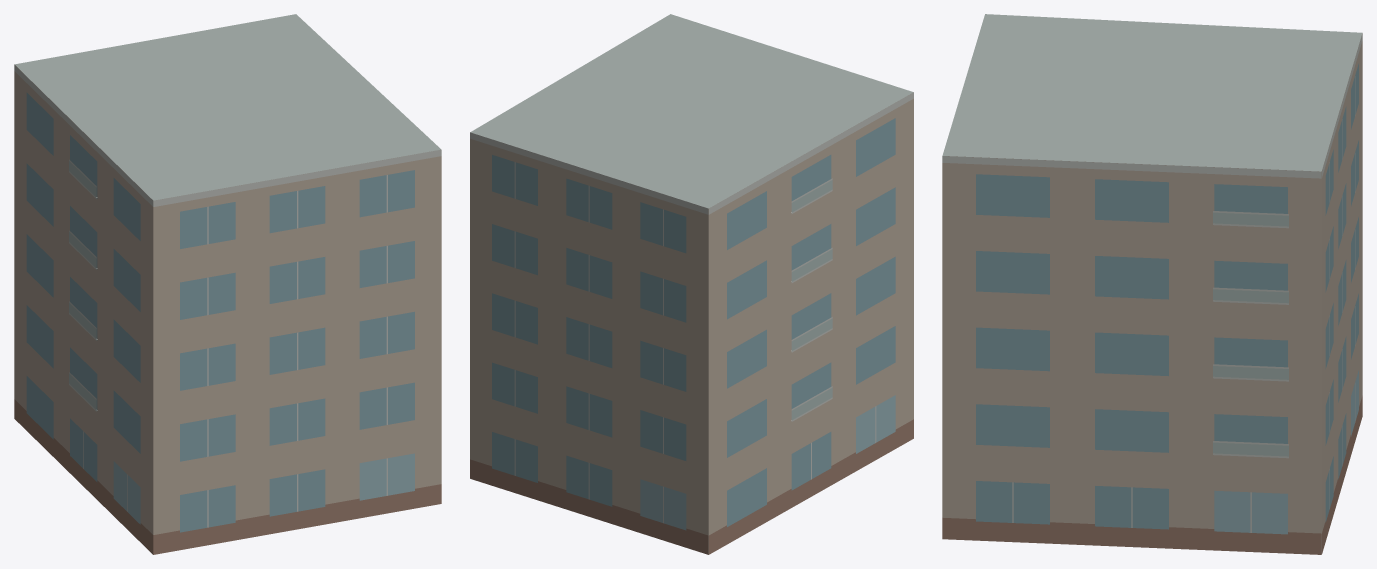
Rendered from survey-upis-32523171.glb.
3 renders of one model, left to right at view 1: azimuth 30°, elevation 25°; view 2: azimuth 150°, elevation 25°; view 3: azimuth 270°, elevation 25°, orthographic. The views are drawn at different scales.
Parts seen in each view (by area): view 1: survey-upis-32523171.tmp; view 2: survey-upis-32523171.tmp; view 3: survey-upis-32523171.tmp.
Boxes of the visible parts, <box> form: survey-upis-32523171.tmp: <box>14,14,441,554</box>; survey-upis-32523171.tmp: <box>470,14,913,554</box>; survey-upis-32523171.tmp: <box>942,14,1362,554</box>.
Size of the model in its own units: 11.73 by 13.3 by 13.22.
